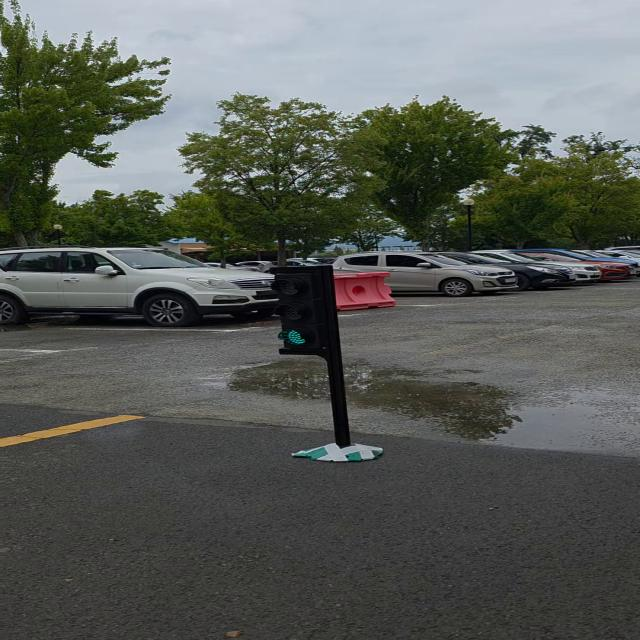green: (271, 263, 344, 355)
